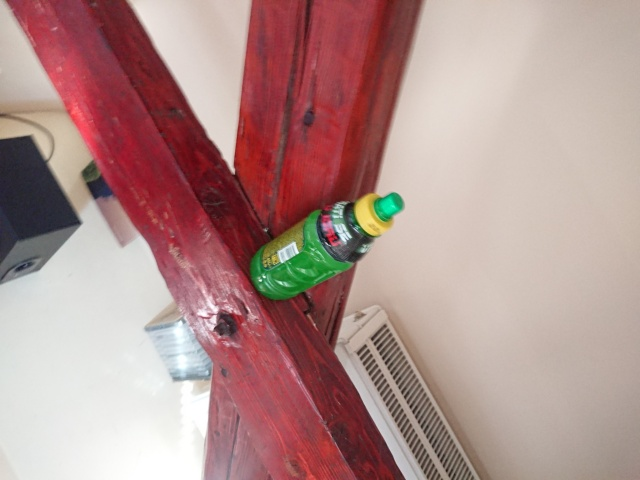Vindi Iso Sport Lemon-Grapefruit 500mL: (247, 190, 407, 304)
